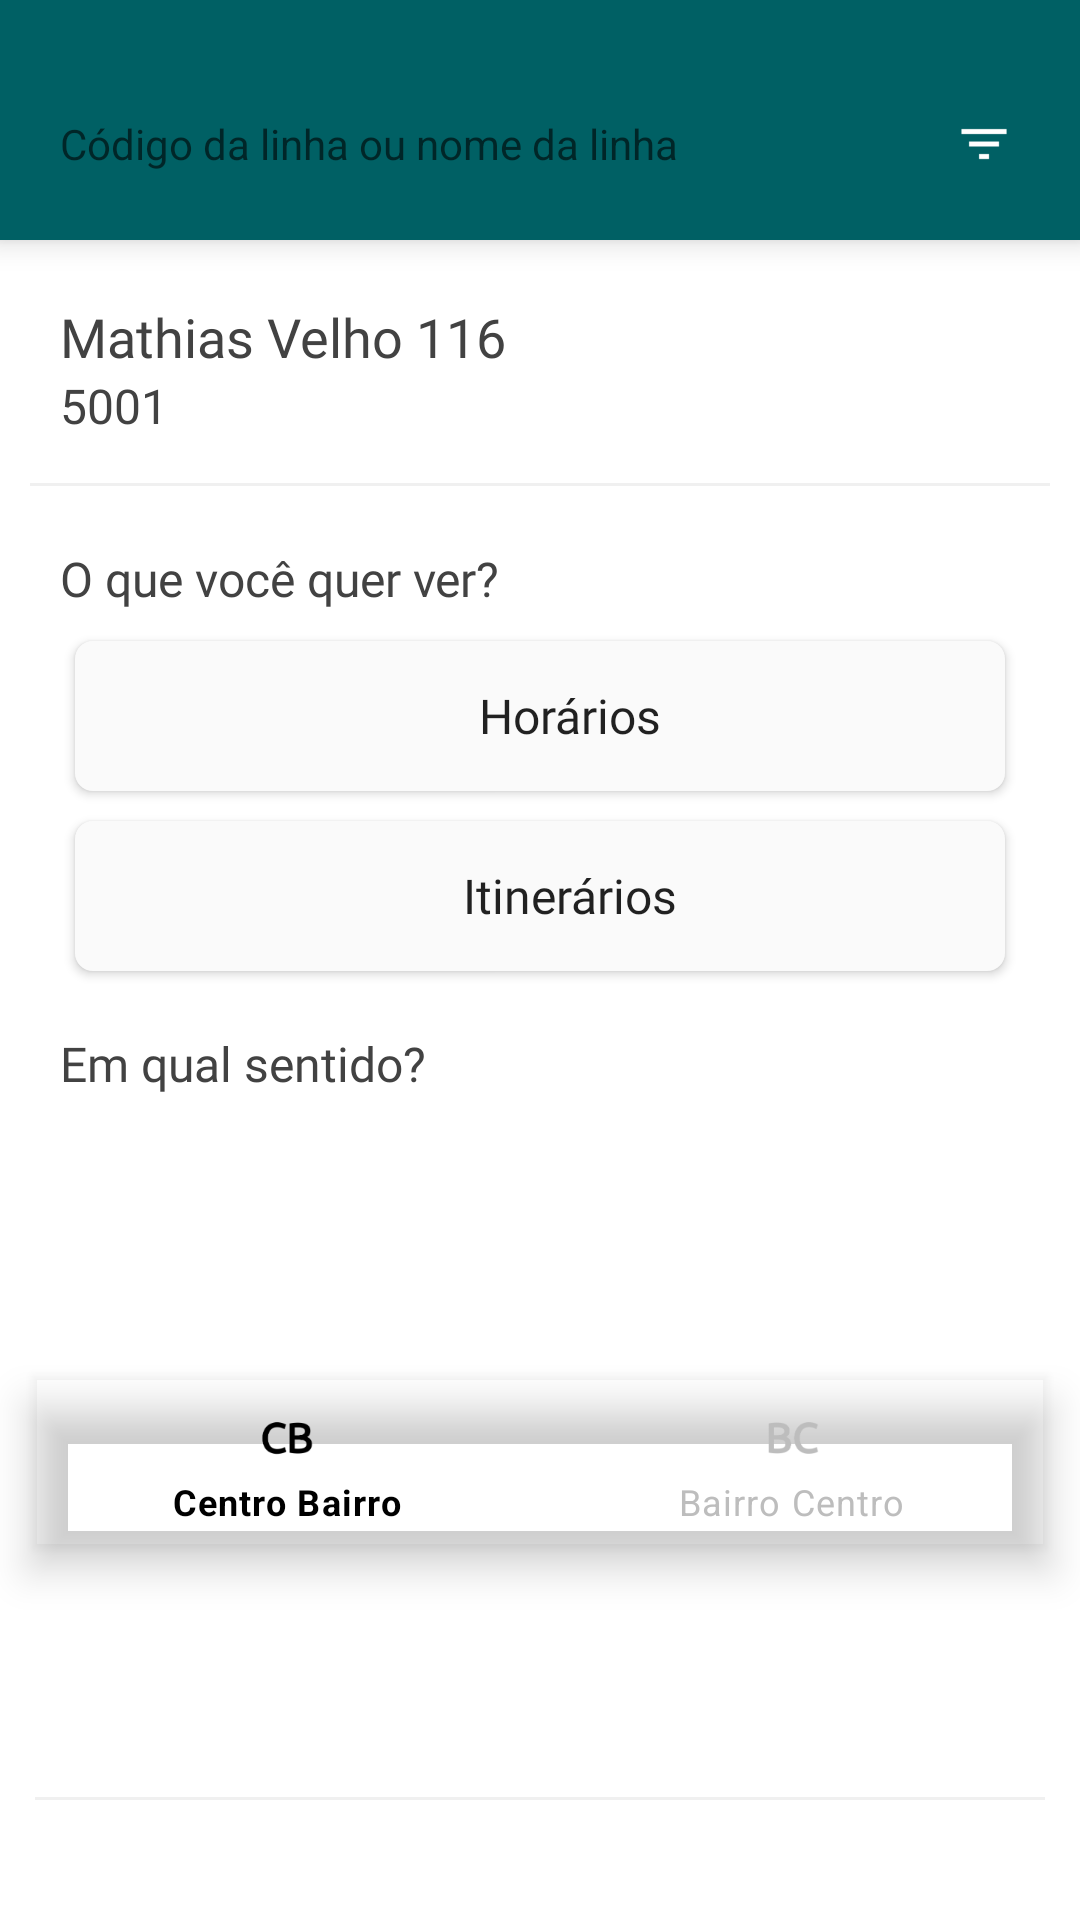

Icons on this 1080px×1920px Android screen, each with the point to tap as [x,y]:
Botão para realizar filtro das linhas de onibus da vicasa: [984,144]
